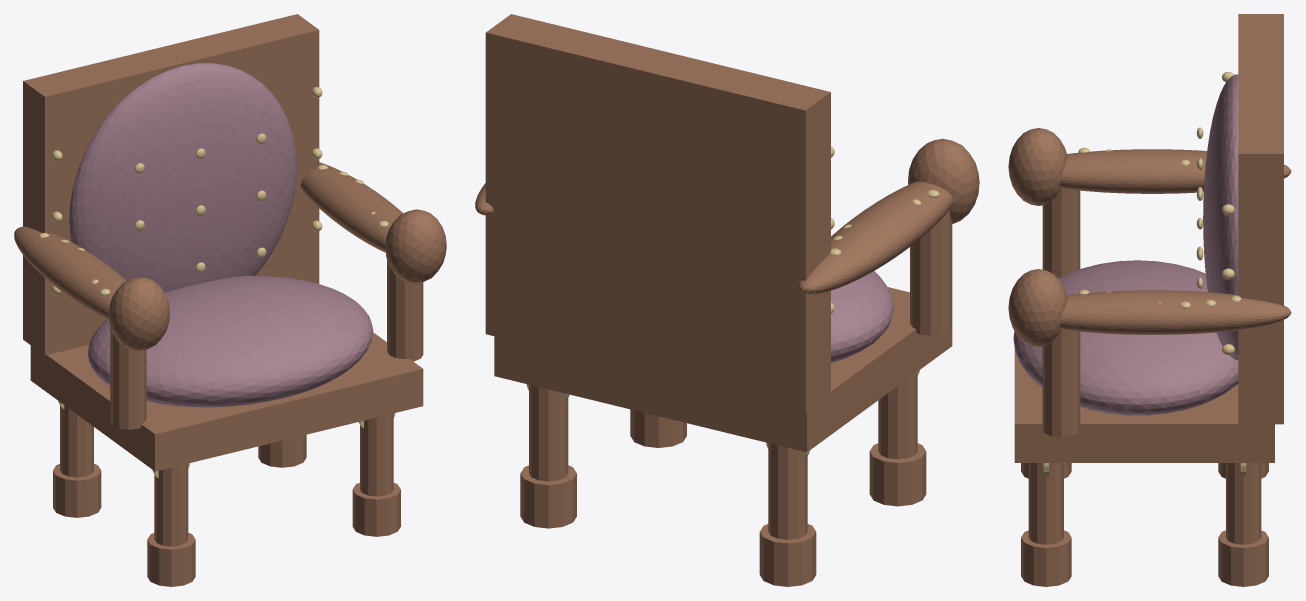
Rendered from victorian-armchair.glb.
3 renders of one model, left to right at view 1: azimuth 30°, elevation 25°; view 2: azimuth 150°, elevation 25°; view 3: azimuth 270°, elevation 25°, orthographic. The views are drawn at different scales.
Visible parts, largest first — view 1: back-padded, back-frame, cushion, seat-frame, arm-top--1, arm-top-1, wood-scroll-1, wood-scroll--1, arm-pillar--1, arm-pillar-1, leg-core--1-1, leg-core-1-1 (+5 smaller); view 2: back-frame, seat-frame, arm-top--1, arm-pillar--1, cushion, leg-core--1--1, leg-core-1--1, wood-scroll--1, leg-base--1-1, leg-base--1--1, leg-base-1--1, leg-core--1-1 (+1 smaller); view 3: back-frame, cushion, seat-frame, arm-top-1, back-padded, arm-top--1, arm-pillar-1, wood-scroll--1, wood-scroll-1, arm-pillar--1, leg-core-1-1, leg-core-1--1 (+2 smaller).
Boxes of the visible parts, <box> form: back-padded: <box>69,63,296,292</box>; back-frame: <box>23,14,319,355</box>; cushion: <box>87,275,373,407</box>; seat-frame: <box>30,332,423,471</box>; arm-top--1: <box>14,226,126,319</box>; arm-top-1: <box>300,162,403,252</box>; wood-scroll-1: <box>385,209,446,283</box>; wood-scroll--1: <box>108,277,170,351</box>; arm-pillar--1: <box>110,327,146,429</box>; arm-pillar-1: <box>387,260,423,361</box>; leg-core--1-1: <box>154,463,188,546</box>; leg-core-1-1: <box>360,413,393,496</box>; back-frame: <box>485,14,830,412</box>; seat-frame: <box>494,287,952,452</box>; arm-top--1: <box>797,181,953,294</box>; arm-pillar--1: <box>910,210,952,335</box>; cushion: <box>831,271,893,362</box>; leg-core--1--1: <box>768,443,807,539</box>; leg-core-1--1: <box>529,384,568,481</box>; wood-scroll--1: <box>908,138,979,223</box>; leg-base--1-1: <box>869,443,926,506</box>; leg-base--1--1: <box>759,524,816,586</box>; leg-base-1--1: <box>520,465,576,528</box>; leg-core--1-1: <box>878,375,917,459</box>; back-frame: <box>1238,14,1283,424</box>; cushion: <box>1013,260,1238,415</box>; seat-frame: <box>1014,349,1274,462</box>; arm-top-1: <box>1060,290,1291,334</box>; back-padded: <box>1203,74,1238,359</box>; arm-top--1: <box>1060,149,1291,193</box>; arm-pillar-1: <box>1042,328,1080,437</box>; wood-scroll--1: <box>1008,128,1067,205</box>; wood-scroll-1: <box>1008,269,1067,346</box>; arm-pillar--1: <box>1042,187,1080,278</box>; leg-core-1-1: <box>1028,463,1063,544</box>; leg-core-1--1: <box>1226,463,1261,544</box>.
Bounding box in the file's own units: 1.58 × 1.93 × 1.12.
